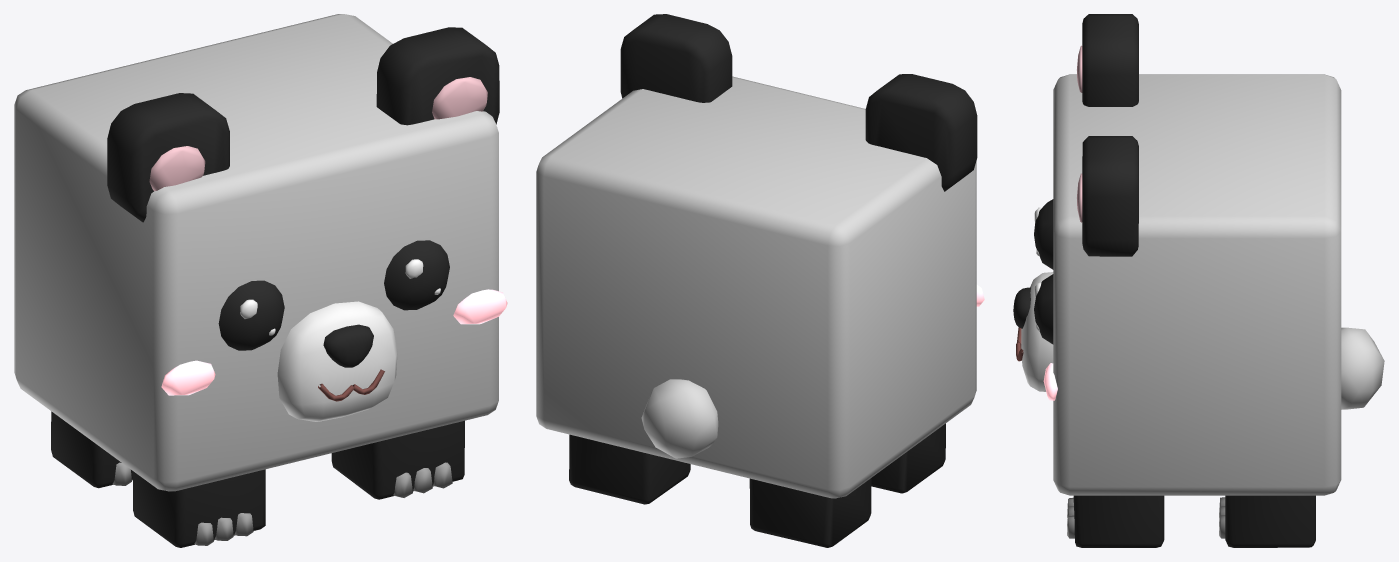
Rendered from Bear_Pandabaer.fbx.
The picture shows the model from 3 angles, left to right: view 1: azimuth 30°, elevation 25°; view 2: azimuth 150°, elevation 25°; view 3: azimuth 270°, elevation 25°; orthographic projection. The views are drawn at different scales.
Parts seen in each view (by area): view 1: Pandabaer_body, Pandabaer_ears, Pandabaer_feet, Pandabaer_muzzle, Pandabaer_eyes, Bear_Pandabaer, Pandabaer_toes, Bear_Pandabaer_cute_innerear_-1, Pandabaer_nose, Bear_Pandabaer_cute_blush_-1; view 2: Pandabaer_body, Pandabaer_ears, Pandabaer_feet, Bear_Pandabaer_cute_tail; view 3: Pandabaer_body, Pandabaer_ears, Pandabaer_feet, Bear_Pandabaer_cute_tail, Pandabaer_eyes, Pandabaer_muzzle, Bear_Pandabaer, Pandabaer_toes, Pandabaer_nose.
Boxes of the visible parts, left/top/right/bottom form: Pandabaer_body: left=14, top=14, right=498, bottom=491; Pandabaer_ears: left=107, top=27, right=499, bottom=222; Pandabaer_feet: left=51, top=411, right=464, bottom=547; Pandabaer_muzzle: left=277, top=301, right=397, bottom=421; Pandabaer_eyes: left=218, top=240, right=449, bottom=350; Bear_Pandabaer: left=405, top=77, right=507, bottom=324; Pandabaer_toes: left=112, top=462, right=452, bottom=545; Bear_Pandabaer_cute_innerear_-1: left=149, top=146, right=205, bottom=191; Pandabaer_nose: left=323, top=324, right=373, bottom=367; Bear_Pandabaer_cute_blush_-1: left=161, top=360, right=215, bottom=395; Pandabaer_body: left=536, top=76, right=976, bottom=498; Pandabaer_ears: left=620, top=14, right=977, bottom=191; Pandabaer_feet: left=569, top=423, right=945, bottom=547; Bear_Pandabaer_cute_tail: left=641, top=379, right=718, bottom=458; Pandabaer_body: left=1053, top=74, right=1341, bottom=495; Pandabaer_ears: left=1082, top=14, right=1138, bottom=256; Pandabaer_feet: left=1073, top=495, right=1315, bottom=547; Bear_Pandabaer_cute_tail: left=1341, top=327, right=1384, bottom=409; Pandabaer_eyes: left=1034, top=199, right=1053, bottom=344; Pandabaer_muzzle: left=1021, top=272, right=1053, bottom=391; Bear_Pandabaer: left=1034, top=173, right=1082, bottom=400; Pandabaer_toes: left=1067, top=497, right=1225, bottom=538; Pandabaer_nose: left=1013, top=287, right=1030, bottom=328.
Size of the model in its own units: 2.35 by 2.61 by 2.21.
